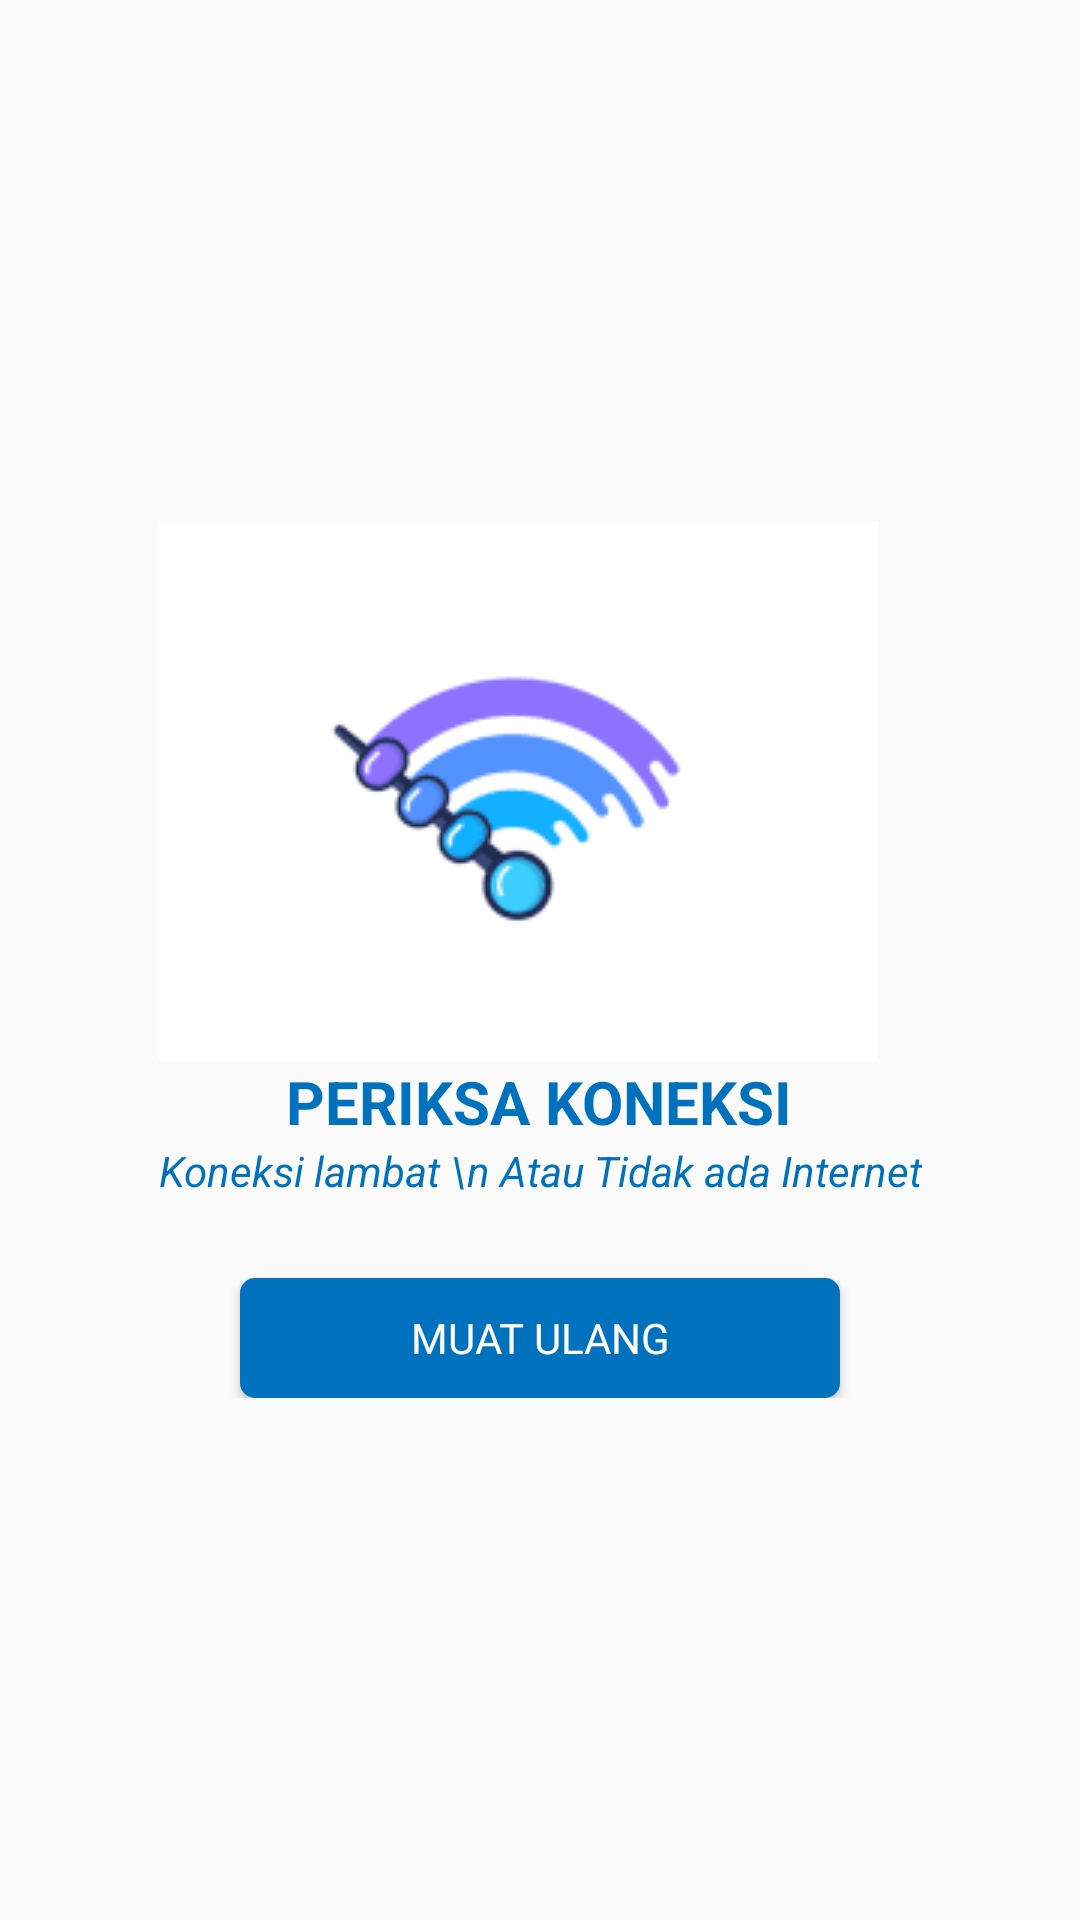

Icons on this 1080w x 1920h Android screen, each with its box as (x1, y1, x2, y2):
no internet 30p: (332, 677, 680, 921)
